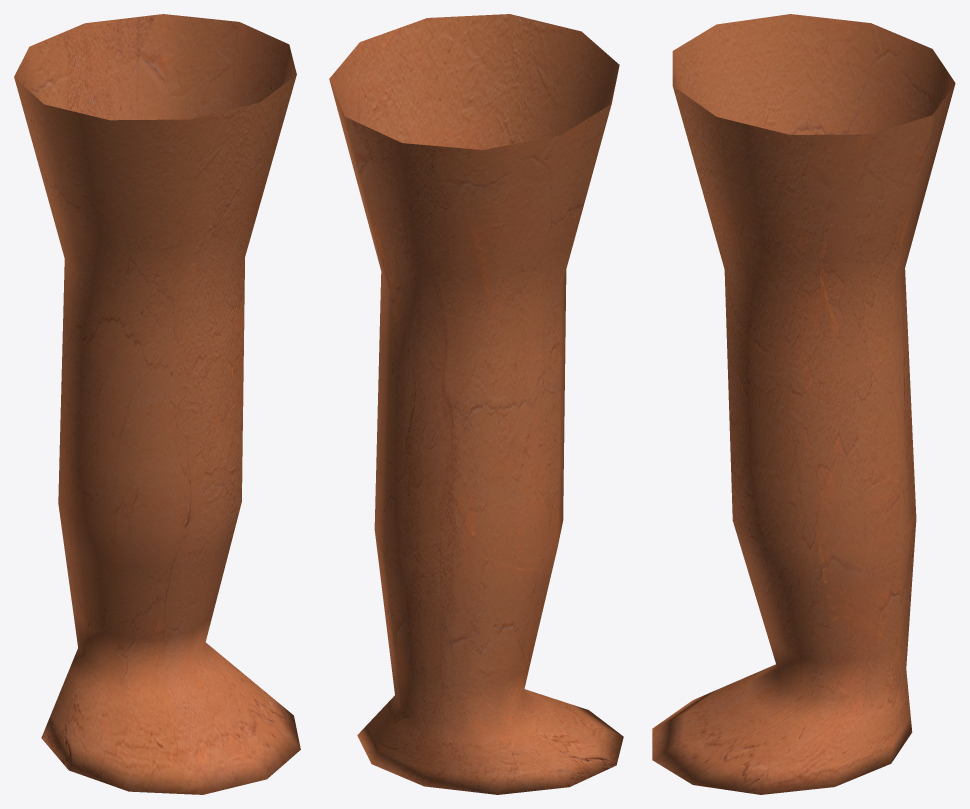
The model's file is pata.obj.
3 renders of one model, left to right at view 1: azimuth 30°, elevation 25°; view 2: azimuth 150°, elevation 25°; view 3: azimuth 270°, elevation 25°, orthographic. The views are drawn at different scales.
Parts seen in each view (by area): view 1: pata; view 2: pata; view 3: pata.
Part boxes in pixels (x1,y1,x2,y2): pata: [14, 14, 300, 794]; pata: [329, 14, 623, 794]; pata: [652, 14, 955, 794].
Size of the model in its own units: 0.8197 by 2.14 by 0.8676.
1 material, 1 textured.
